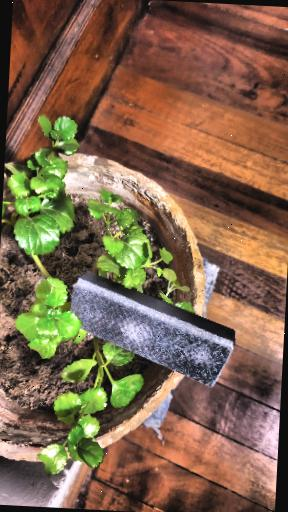borrador: (72, 272, 235, 386)
